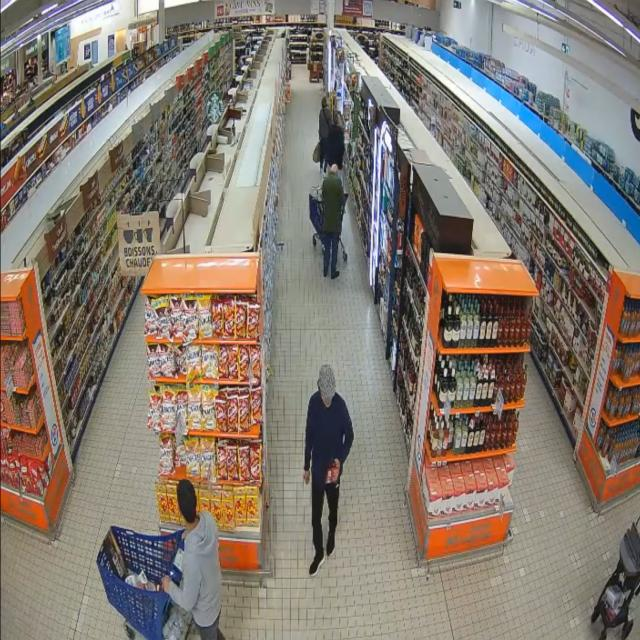article: (326, 460, 339, 484), (305, 473, 310, 485)
bags: (313, 142, 320, 163)
hands: (163, 576, 171, 594), (303, 471, 310, 484), (335, 459, 340, 471)
person: (304, 365, 353, 575), (164, 480, 224, 639), (322, 165, 343, 279), (327, 112, 344, 171), (319, 97, 332, 172)
